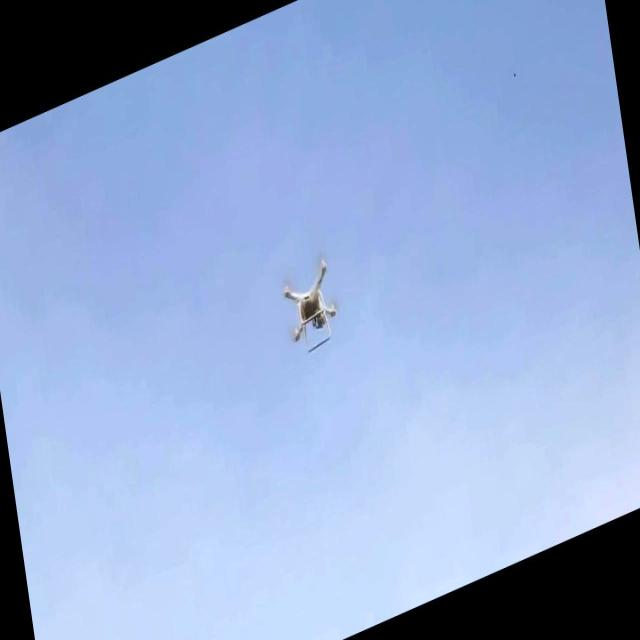drone: (279, 254, 344, 364)
